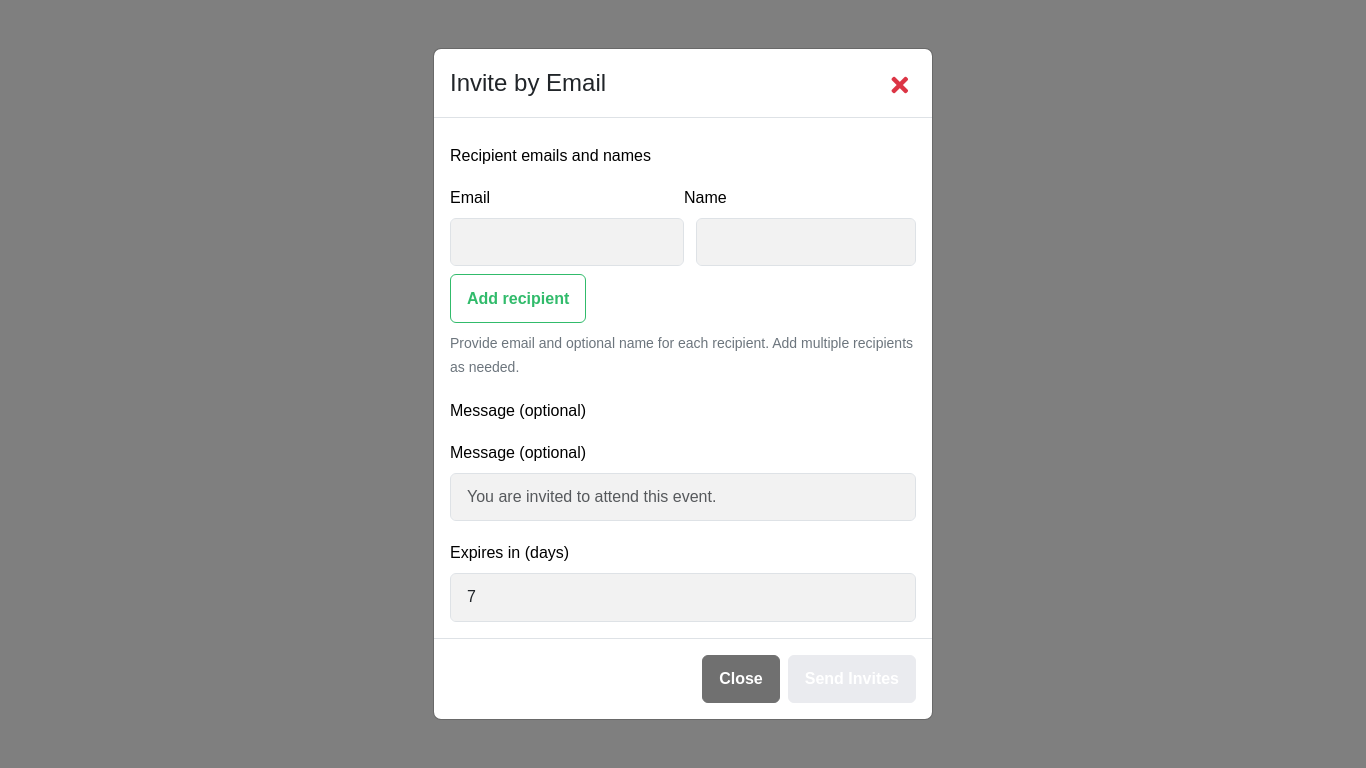
Test: InviteByEmailModal › ExpiresInDays Field › should accept valid number input
Double-click the number field with test id "invite-expires" at (683, 597), box [450,573,916,622]
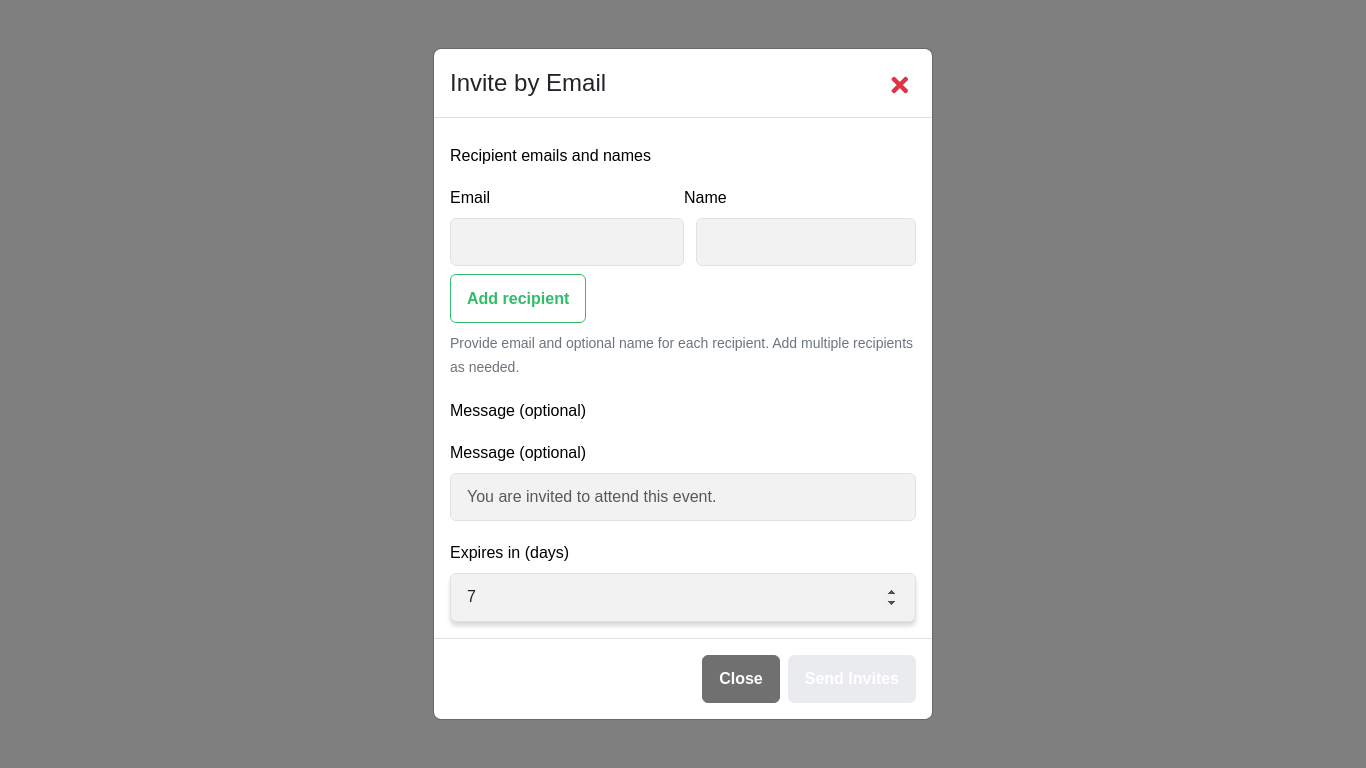
Type keys "14"
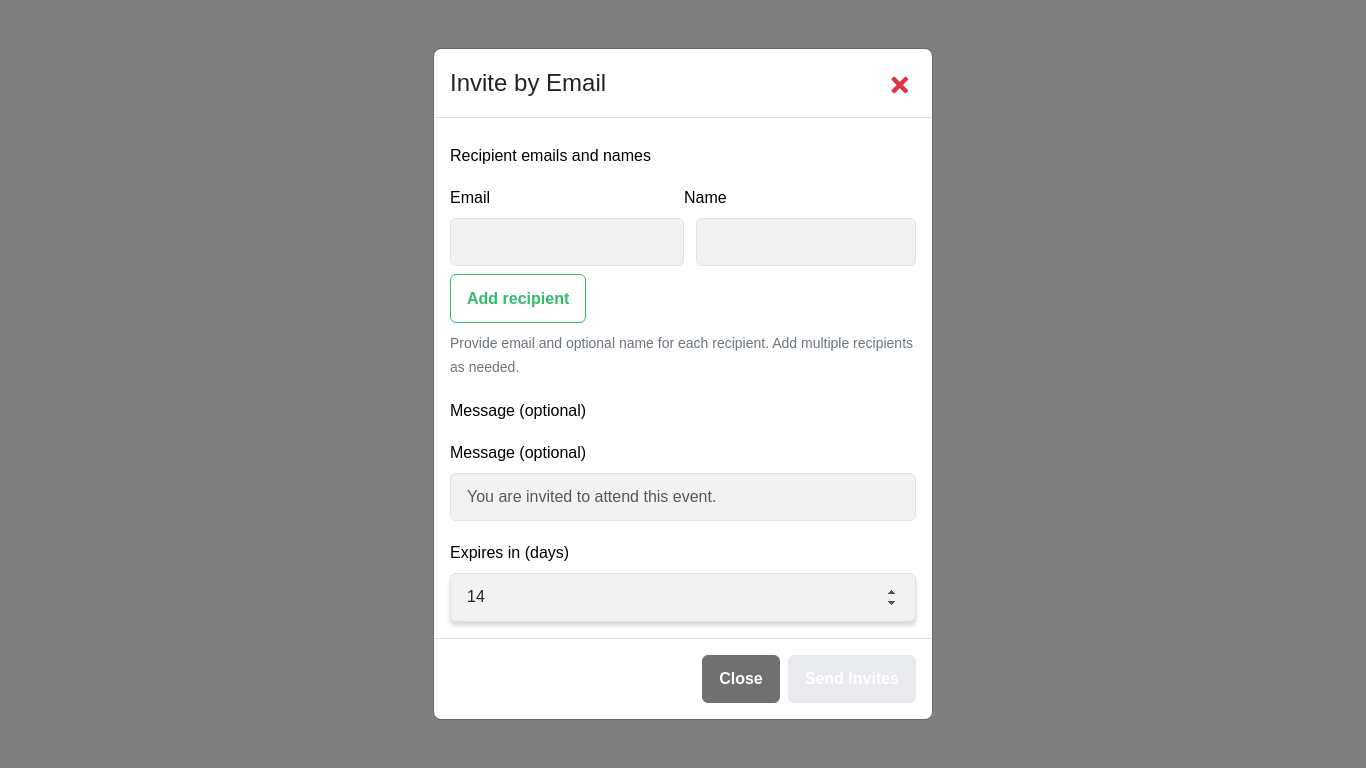
expect the number field with test id "invite-expires" holds "14": met, box [450,573,916,622]
